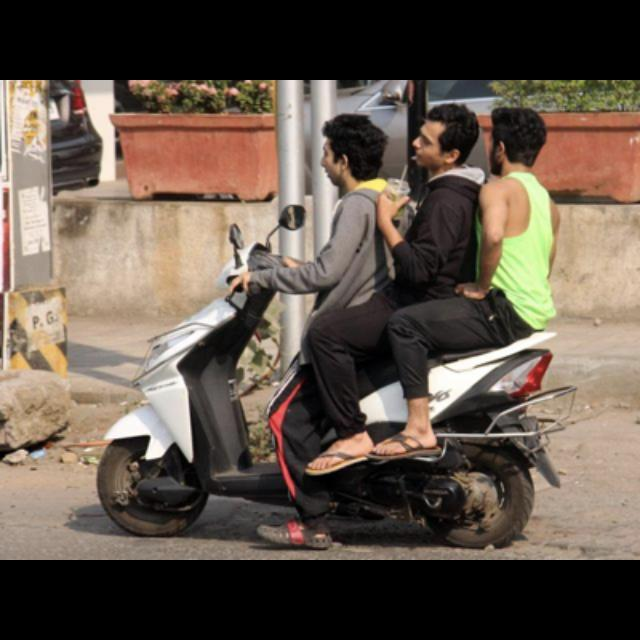Without Helmet: (317, 109, 389, 189)
